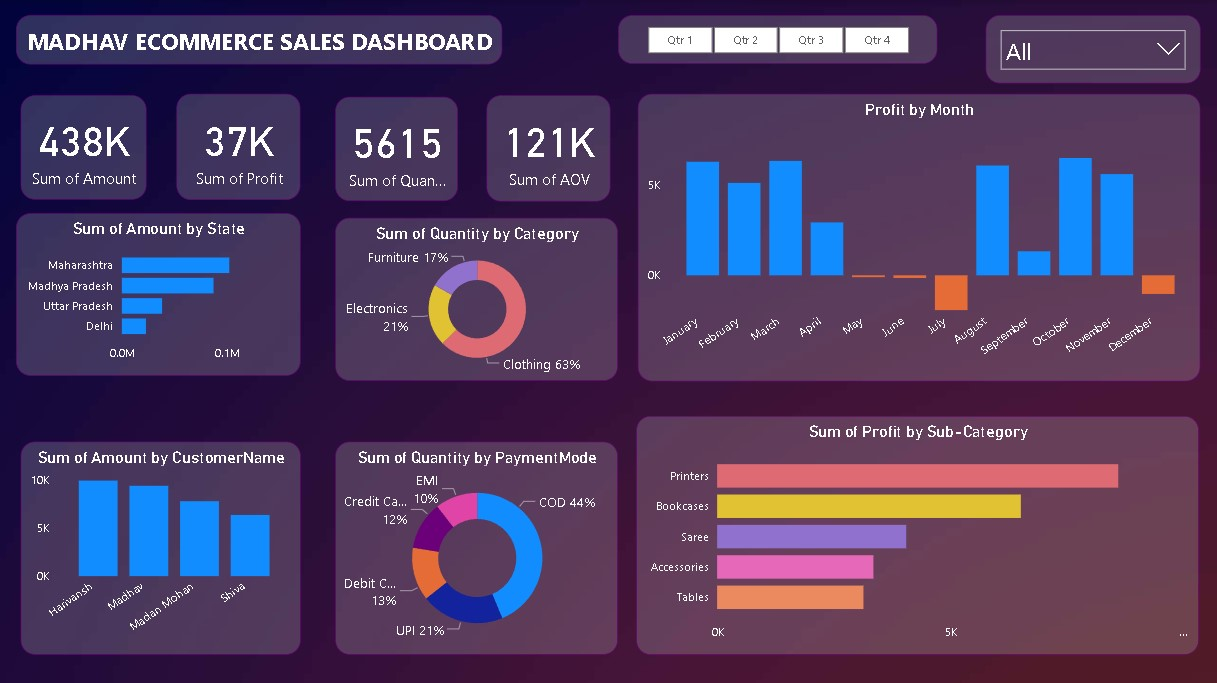

This screenshot's page, from the dashboard's own definition file:
{"tool":"powerbi","page":{"name":"Page 1","canvas":[1280,720],"ordinal":0},"visuals":[{"type":"columnChart","title":"Profit by Month","fields":{"Category":["Orders.Order Date.Variation.Date Hierarchy.Month"],"Y":["Details.Profit"]},"box":[669.3,97.8,588.8,301.1],"z":0},{"type":"textbox","box":[19.2,15.3,508.2,51.8],"z":1000},{"type":"barChart","fields":{"Category":["Details.Sub-Category"],"Y":["Details.Profit"]},"box":[667.6,435.1,588.5,250],"z":2000},{"type":"donutChart","fields":{"Y":["Details.Quantity"],"Category":["Details.PaymentMode"]},"box":[352.8,462,295.9,223.1],"z":3000},{"type":"donutChart","fields":{"Category":["Details.Category"],"Y":["Details.Quantity"]},"box":[352.8,227.8,295.9,170.9],"z":4000},{"type":"card","fields":{"Values":["Details.Amount"]},"box":[23.7,99.7,131.3,109.2],"z":5000},{"type":"card","fields":{"Values":["Details.Profit"]},"box":[186.7,98.1,129.7,110.7],"z":6000},{"type":"card","fields":{"Values":["Details.Quantity"]},"box":[352.8,101.3,128.1,109.2],"z":7000},{"type":"card","fields":{"Values":["Details.AOV"]},"box":[511,99.7,129.7,110.7],"z":8000},{"type":"barChart","fields":{"Category":["Orders.State"],"Y":["Details.Amount"]},"box":[19,223.1,297.4,170],"z":8001},{"type":"columnChart","fields":{"Category":["Orders.CustomerName"],"Y":["Details.Amount"]},"box":[23.7,462,292.7,223.1],"z":8002},{"type":"slicer","fields":{"Values":["Orders.Order Date.Variation.Date Hierarchy.Quarter"]},"box":[648.2,15.3,333.7,51],"z":8003},{"type":"slicer","fields":{"Values":["Orders.State"]},"box":[1033.1,15.8,224.7,71.2],"z":8004}]}

Visuals, with their boxes in screenshot pixels (x1, y1, x2, y2), scaled from the page's 1280x720 canvas onto the 1217x683 screenshot:
"Profit by Month" columnChart: (636,93,1196,378)
textbox: (18,15,501,64)
barChart - Details.Sub-Category x Details.Profit: (635,413,1194,650)
donutChart - Details.Quantity x Details.PaymentMode: (335,438,617,650)
donutChart - Details.Category x Details.Quantity: (335,216,617,378)
card - Details.Amount: (23,95,147,198)
card - Details.Profit: (178,93,301,198)
card - Details.Quantity: (335,96,457,200)
card - Details.AOV: (486,95,609,200)
barChart - Orders.State x Details.Amount: (18,212,301,373)
columnChart - Orders.CustomerName x Details.Amount: (23,438,301,650)
slicer - Orders.Order Date.Variation.Date Hierarchy.Quarter: (616,15,934,63)
slicer - Orders.State: (982,15,1196,83)
